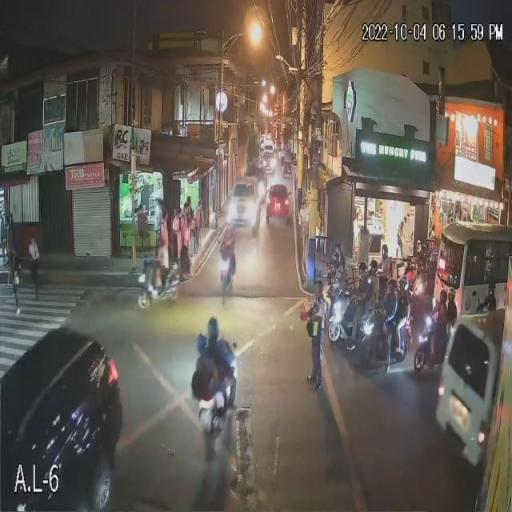helmet: (204, 319, 224, 345), (154, 233, 166, 249), (357, 264, 368, 277), (386, 279, 395, 294), (398, 279, 407, 293), (331, 253, 340, 265), (448, 290, 455, 304), (370, 262, 378, 274), (440, 292, 446, 305), (488, 284, 494, 296)
motorcycle: (193, 373, 237, 433), (355, 316, 408, 364), (137, 262, 185, 306), (412, 318, 452, 368), (331, 296, 359, 344), (217, 247, 234, 290)
rider: (204, 328, 220, 380), (384, 278, 398, 329), (397, 278, 410, 324), (356, 264, 369, 307), (153, 240, 169, 270), (331, 258, 344, 294), (447, 290, 458, 320), (437, 291, 447, 323), (370, 262, 379, 296), (224, 222, 234, 248), (487, 284, 495, 314)
